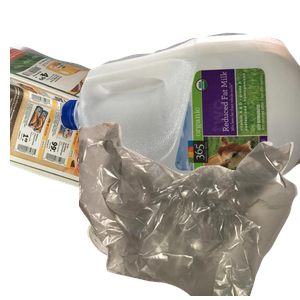glass: (85, 141, 275, 300)
paper: (10, 42, 224, 222)
plastic: (60, 30, 300, 210)
trash: (79, 120, 300, 300)
